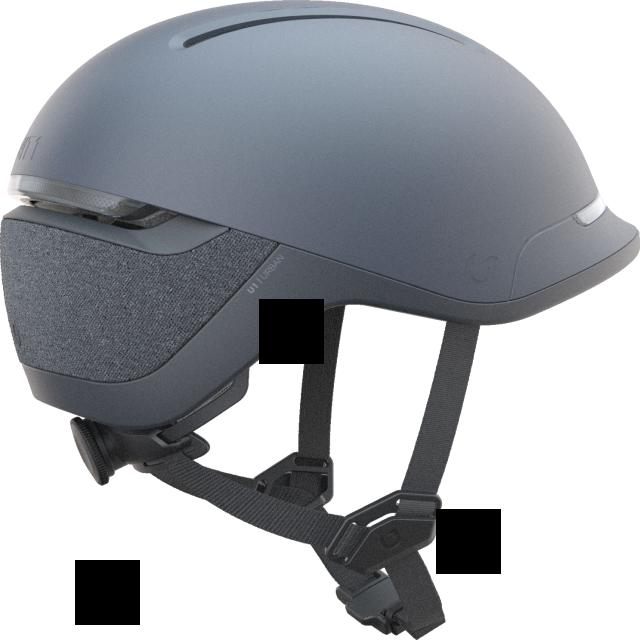Helmet: (0, 8, 640, 456)
